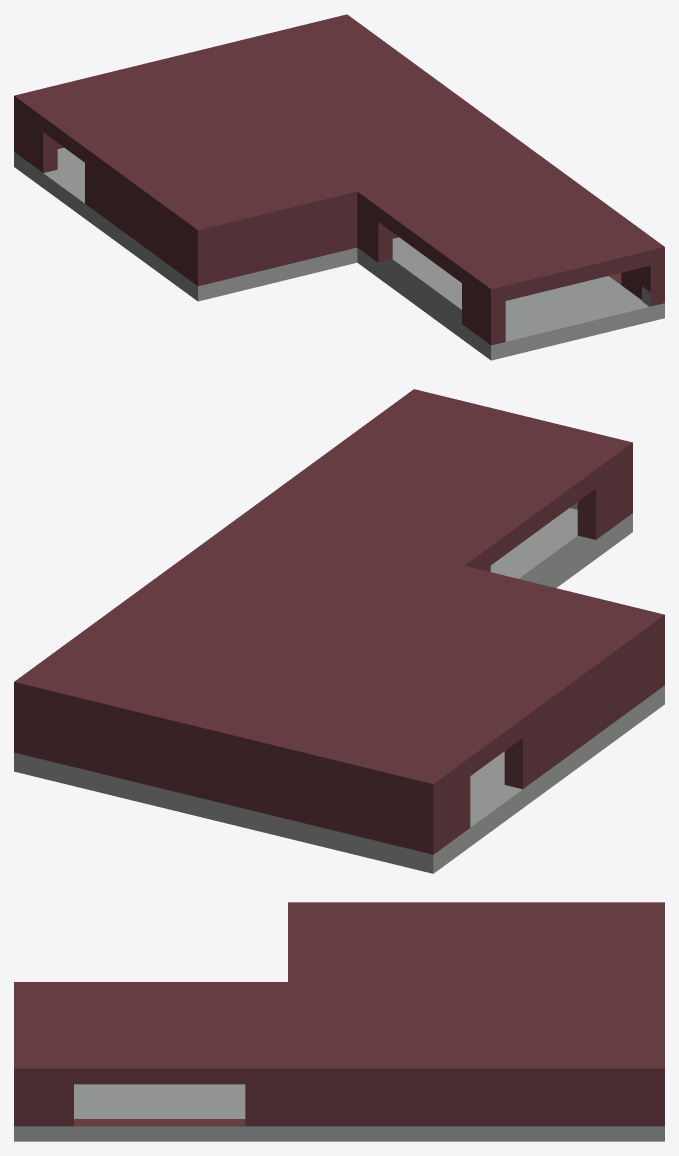
Rendered from Wrap.fbx.
3 views of the same model, one above another, from view 1: azimuth 30°, elevation 25°; view 2: azimuth 150°, elevation 25°; view 3: azimuth 270°, elevation 25° (orthographic). The views are drawn at different scales.
Visible parts, largest first — view 1: Wrap; view 2: Wrap; view 3: Wrap.
Boxes of the visible parts, box(x1,y1,x2,y2) form: Wrap: box(14, 14, 664, 360); Wrap: box(14, 389, 664, 873); Wrap: box(14, 902, 664, 1141).
Size of the model in its own units: 2300 by 470 by 3800.
